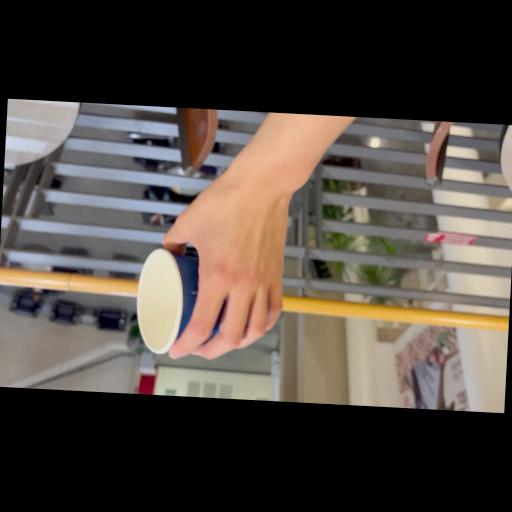lp_paper_cup: (134, 248, 227, 356)
